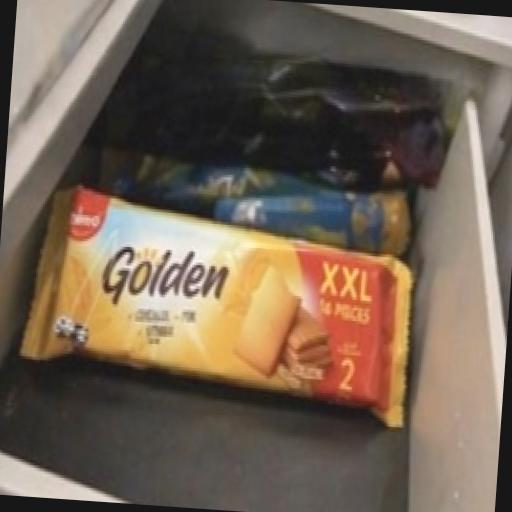golden: (0, 121, 443, 488)
